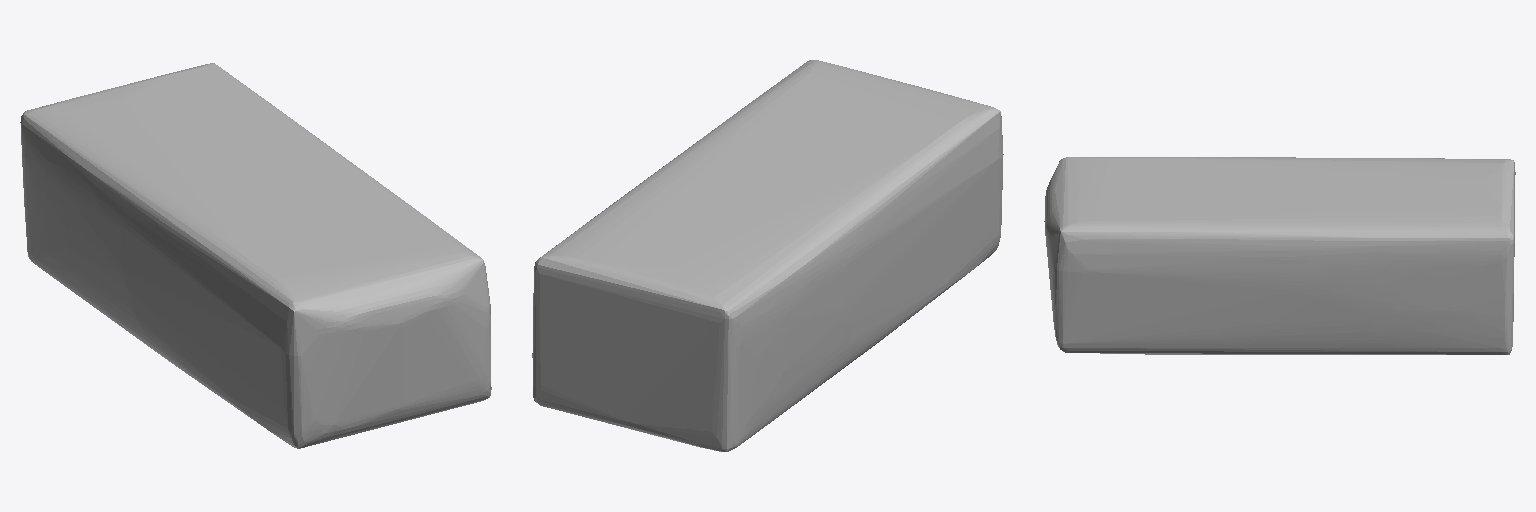
URDF robot description (root):
<robot name="root">
  <link name="link_coacd_convex_piece_0">
    <inertial>
      <origin xyz="0 0 0" rpy="0 0 0"/>
      <inertia ixx="4.55E-07" ixy="3.66E-10" ixz="-8.87E-11" iyy="1.13E-07" iyz="3.16E-09" izz="4.89E-07"/>
    </inertial>
    <visual>
      <origin xyz="0 0 0" rpy="0 0 0"/>
      <geometry>
        <mesh filename="coacd_convex_piece_0.obj" scale="1.0000E+00 1.0000E+00 1.0000E+00"/>
      </geometry>
      <material name="">
        <color rgba="7.50E-01 7.50E-01 7.50E-01 1"/>
      </material>
    </visual>
    <collision>
      <origin xyz="0 0 0" rpy="0 0 0"/>
      <geometry>
        <mesh filename="coacd_convex_piece_0.obj" scale="1.0000E+00 1.0000E+00 1.0000E+00"/>
      </geometry>
    </collision>
  </link>
</robot>

--- Facts derived from the render (not from the file) ---
3 views of the same robot in one strip: view 1: azimuth 30°, elevation 25°; view 2: azimuth 150°, elevation 25°; view 3: azimuth 270°, elevation 25° (orthographic).
Robot: root — 1 links, 0 joints (none); root link link_coacd_convex_piece_0; default pose: all joints at 0.
Visible links, largest first — view 1: link_coacd_convex_piece_0; view 2: link_coacd_convex_piece_0; view 3: link_coacd_convex_piece_0.
Boxes of the visible links, x1,y1,x2,y2 form: link_coacd_convex_piece_0: (20,63,491,448); link_coacd_convex_piece_0: (532,60,1003,451); link_coacd_convex_piece_0: (1044,157,1515,354).
Bounding box of the posed robot: 0.0586 × 0.1375 × 0.0435 m (x, y, z).
1 mesh visuals loaded from 1 distinct referenced files (1 OBJ).